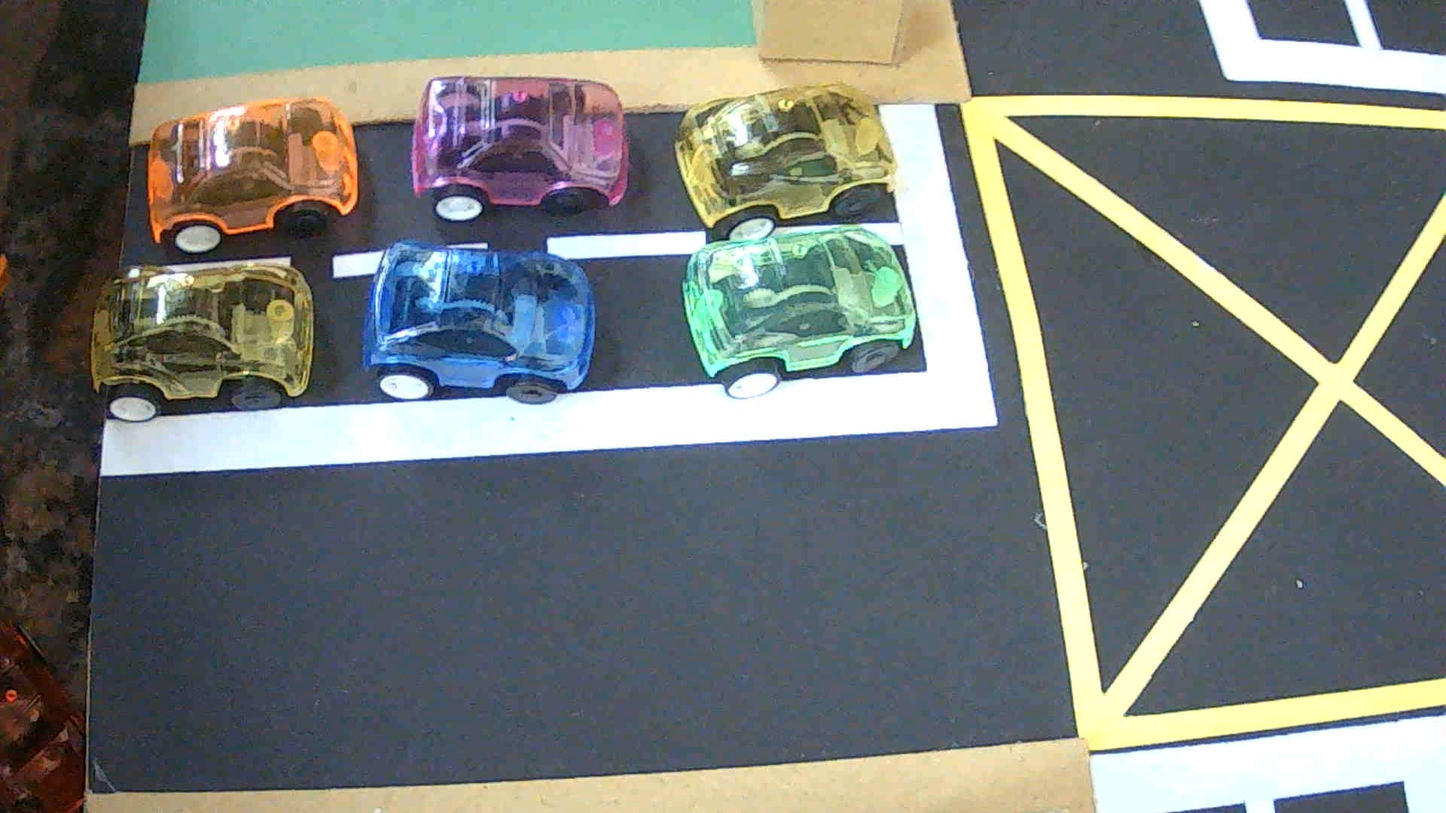Mobil biru: (363, 241, 596, 402)
Mobil hijau: (682, 225, 916, 399)
Mobil kuning: (91, 263, 313, 422), (674, 84, 894, 240)
Mobil orange: (145, 98, 358, 253)
Mobil ungu: (410, 75, 629, 221)
